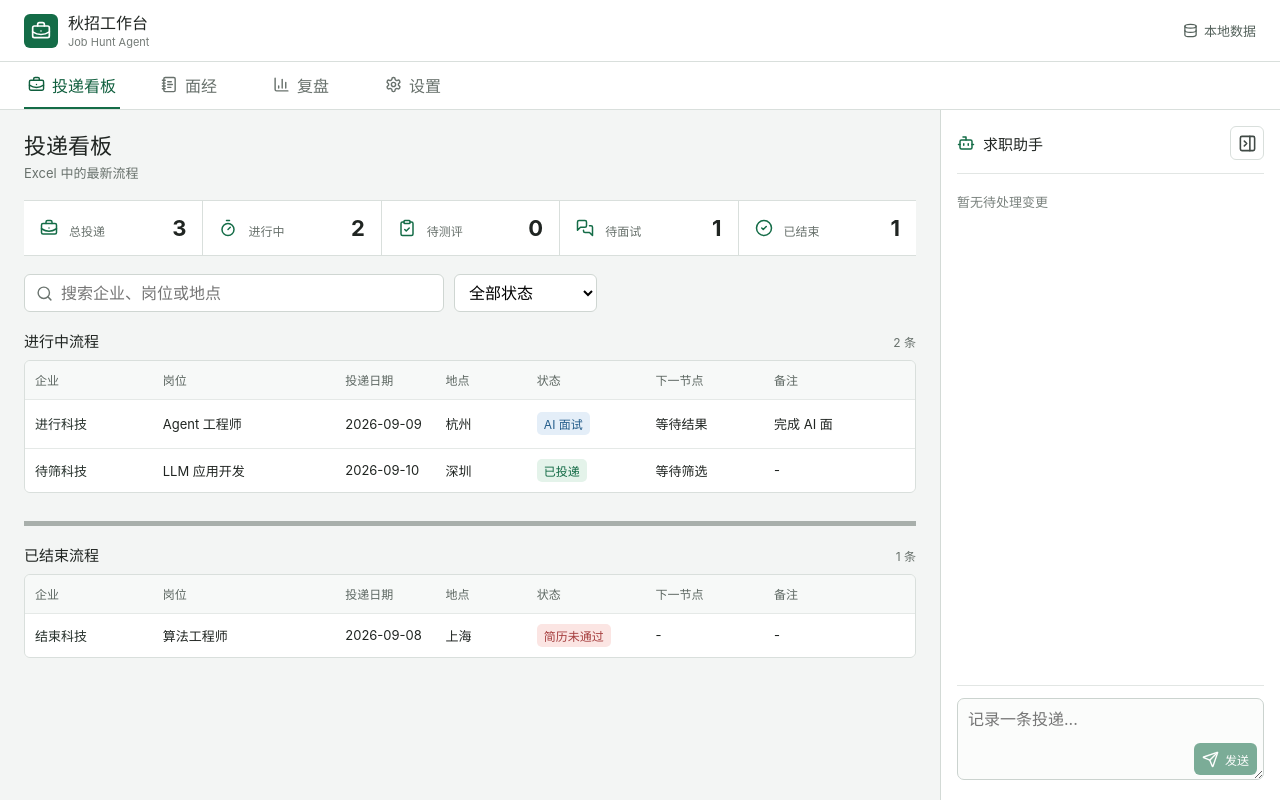
AppShell › renders interview details and expands the private local note
This screenshot has width=1280, height=800.
Step 1. Click the tab "面经" → (189, 86), box [146,62,232,109]
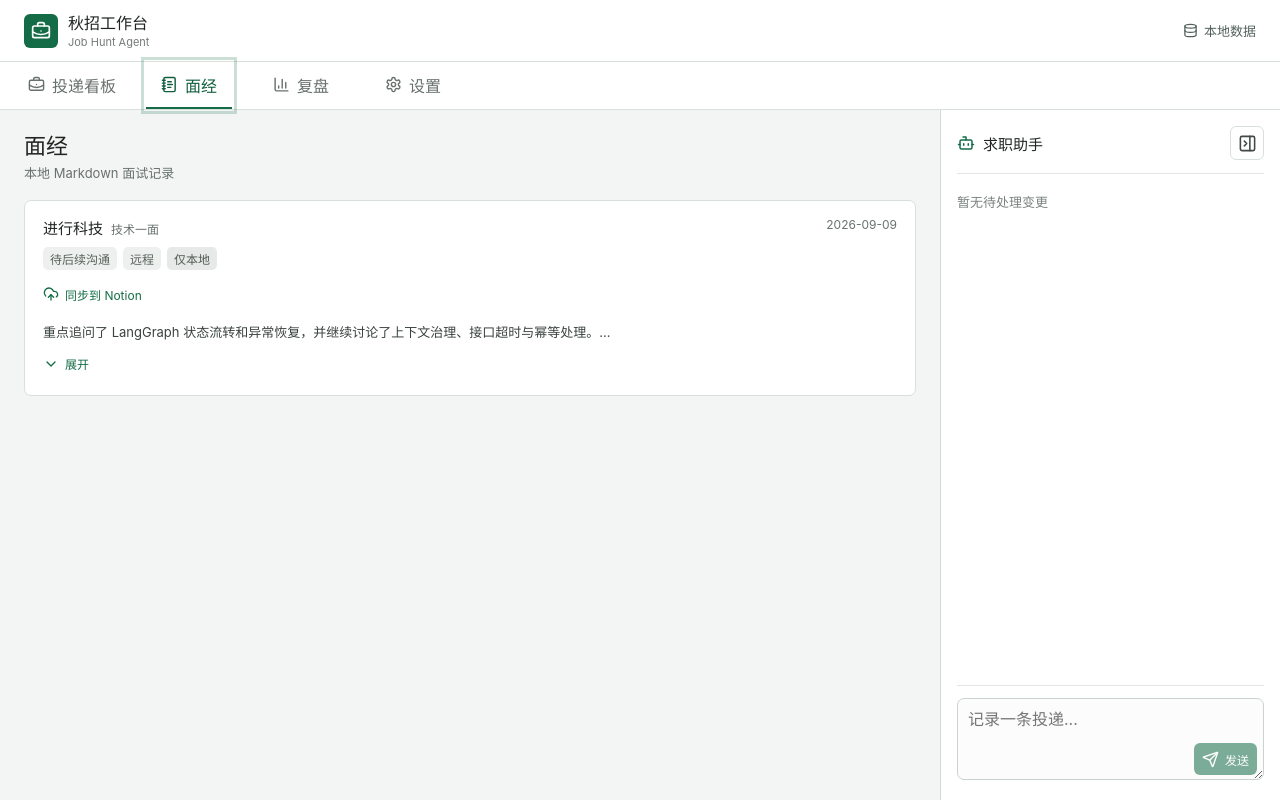
Check: the heading "进行科技" is shown, box [43,217,103,238]
Check: the text "仅本地" is shown, box [167,247,217,270]
Step 2. Click the button with aria-label "展开面经" → (66, 364), box [43,349,89,379]
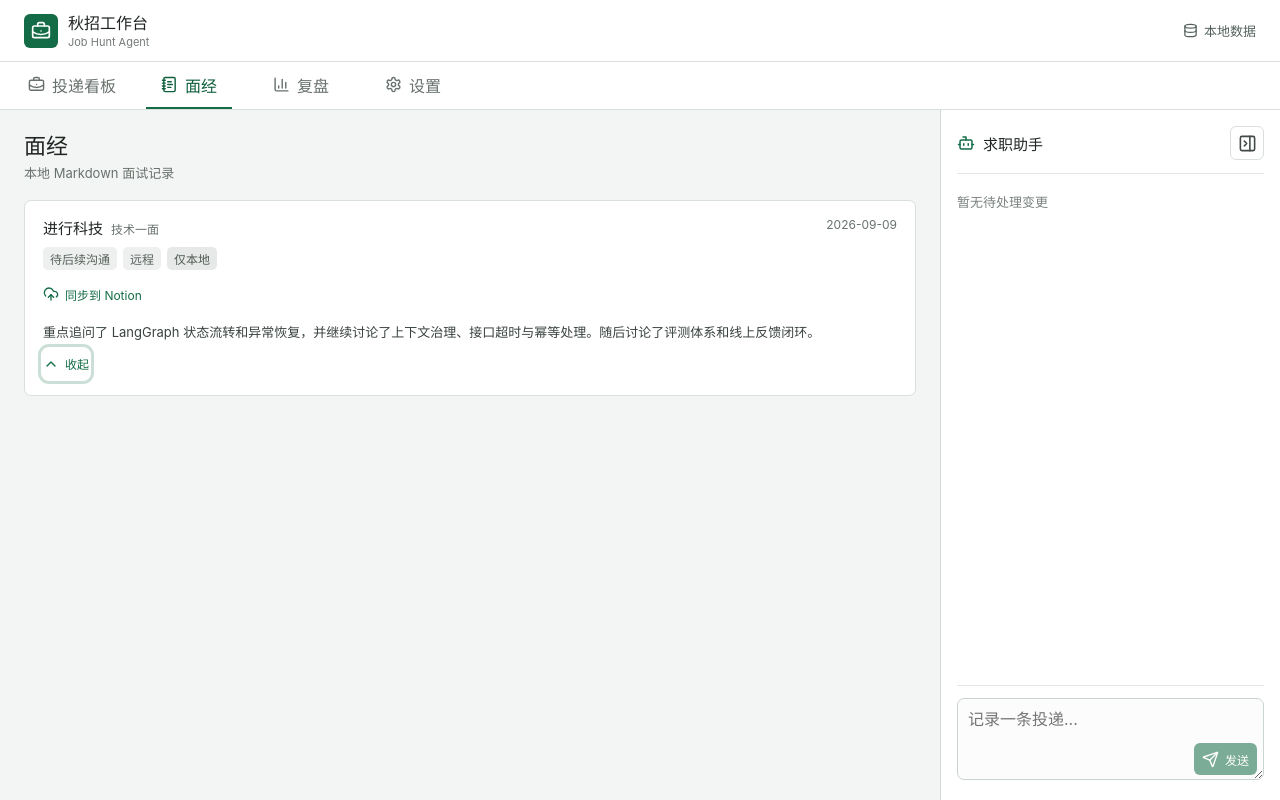
Check: the text "随后讨论了评测体系" is shown, box [43,324,820,340]
